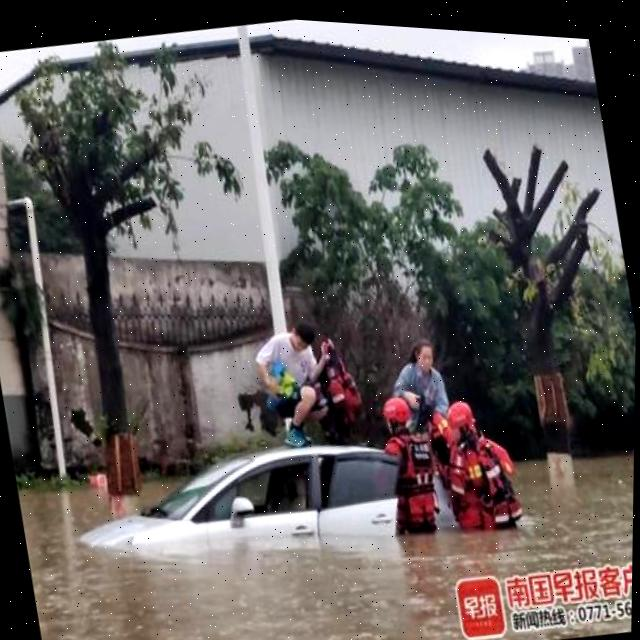civilian: (247, 308, 334, 451), (389, 334, 457, 426)
rescuer: (431, 387, 516, 541), (370, 383, 450, 543)
